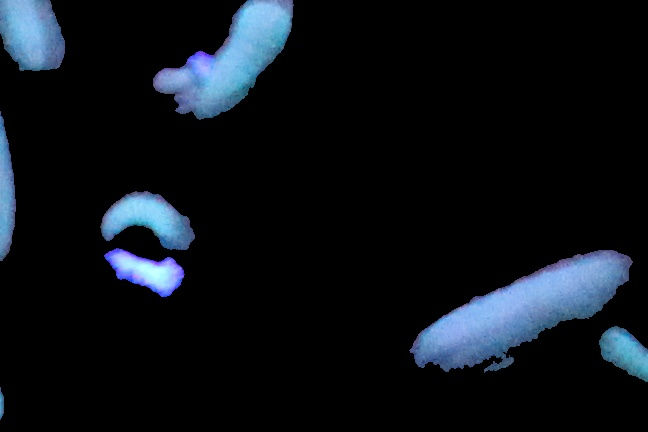larvae: (408, 250, 639, 372), (186, 1, 292, 122), (98, 189, 198, 257), (1, 1, 68, 70), (1, 93, 19, 256)
